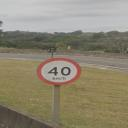speed_limit_40: (36, 57, 82, 85)
